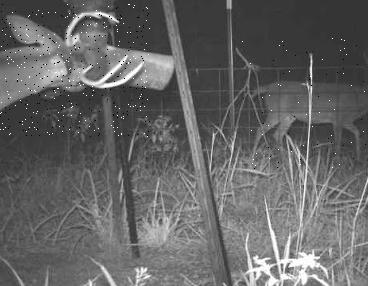Deer: (0, 4, 150, 137), (240, 33, 368, 169)
